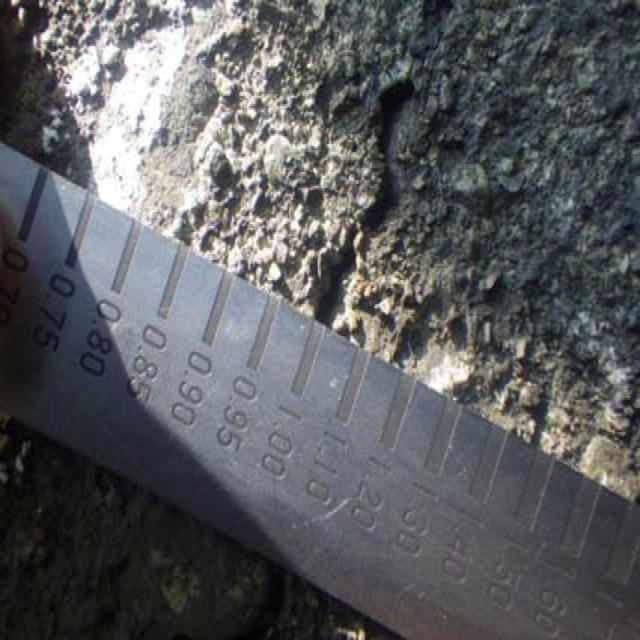crack: (310, 0, 451, 349)
